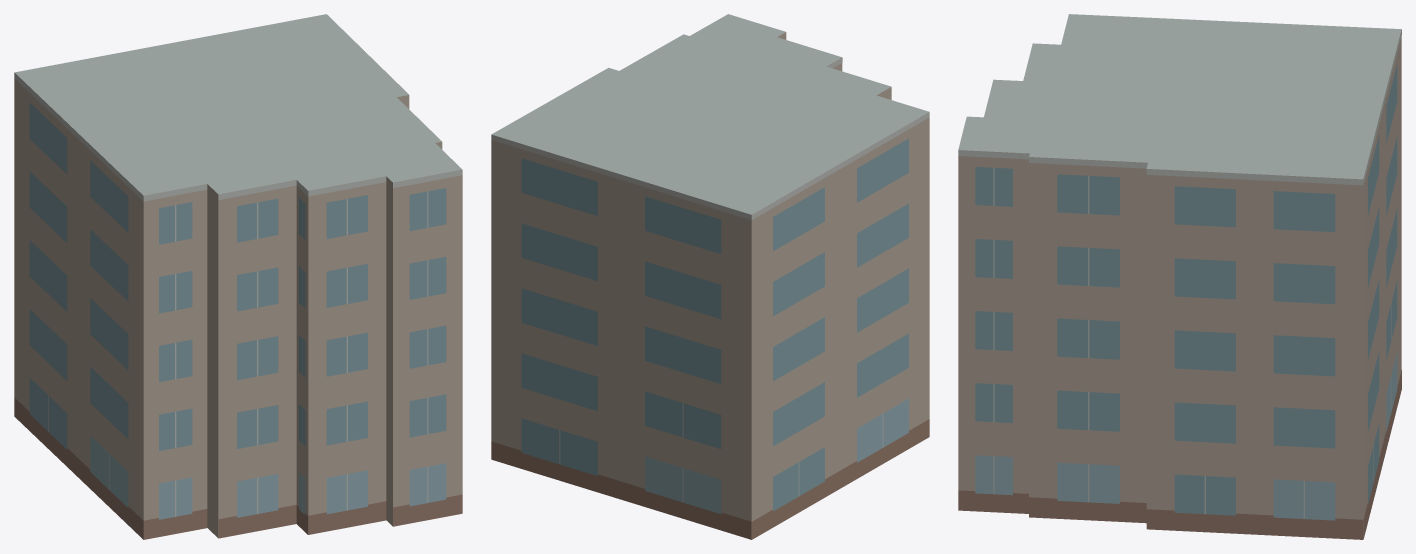
Rendered from survey-upis-32504023.glb.
3 renders of one model, left to right at view 1: azimuth 30°, elevation 25°; view 2: azimuth 150°, elevation 25°; view 3: azimuth 270°, elevation 25°, orthographic. The views are drawn at different scales.
Parts seen in each view (by area): view 1: survey-upis-32504023.tmp; view 2: survey-upis-32504023.tmp; view 3: survey-upis-32504023.tmp.
Boxes of the visible parts, left/top/right/bottom form: survey-upis-32504023.tmp: left=14, top=14, right=462, bottom=539; survey-upis-32504023.tmp: left=491, top=14, right=929, bottom=539; survey-upis-32504023.tmp: left=958, top=14, right=1401, bottom=539.
Size of the model in its own units: 14.48 by 14.7 by 16.4.
